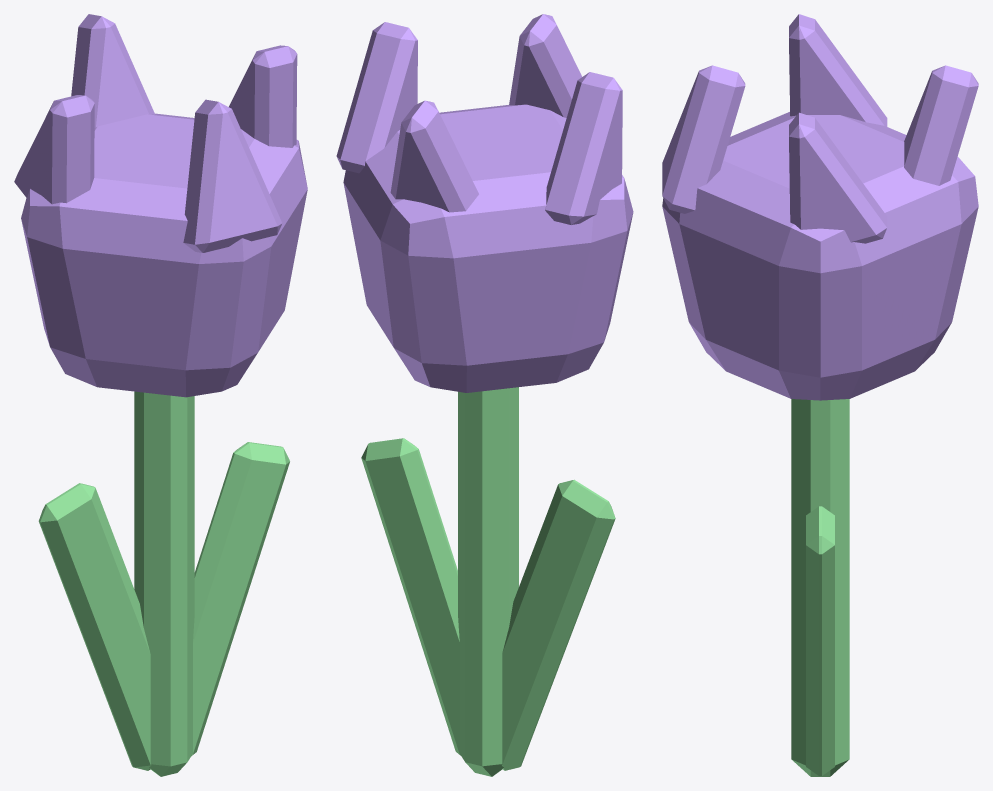
Rendered from tulip.glb.
3 renders of one model, left to right at view 1: azimuth 30°, elevation 25°; view 2: azimuth 150°, elevation 25°; view 3: azimuth 270°, elevation 25°, orthographic.
Parts seen in each view (by area): view 1: tulip; view 2: tulip; view 3: tulip.
Part boxes in pixels (x1,y1,x2,y2): tulip: (14,14,307,776); tulip: (336,14,633,776); tulip: (662,14,978,776).
Bounding box in the file's own units: 0.6513 × 1.61 × 0.6513.
